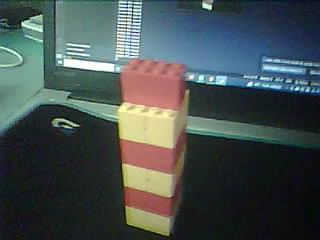lego: (118, 57, 190, 237)
